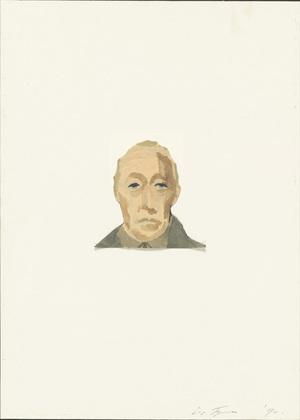person: (91, 129, 207, 251)
